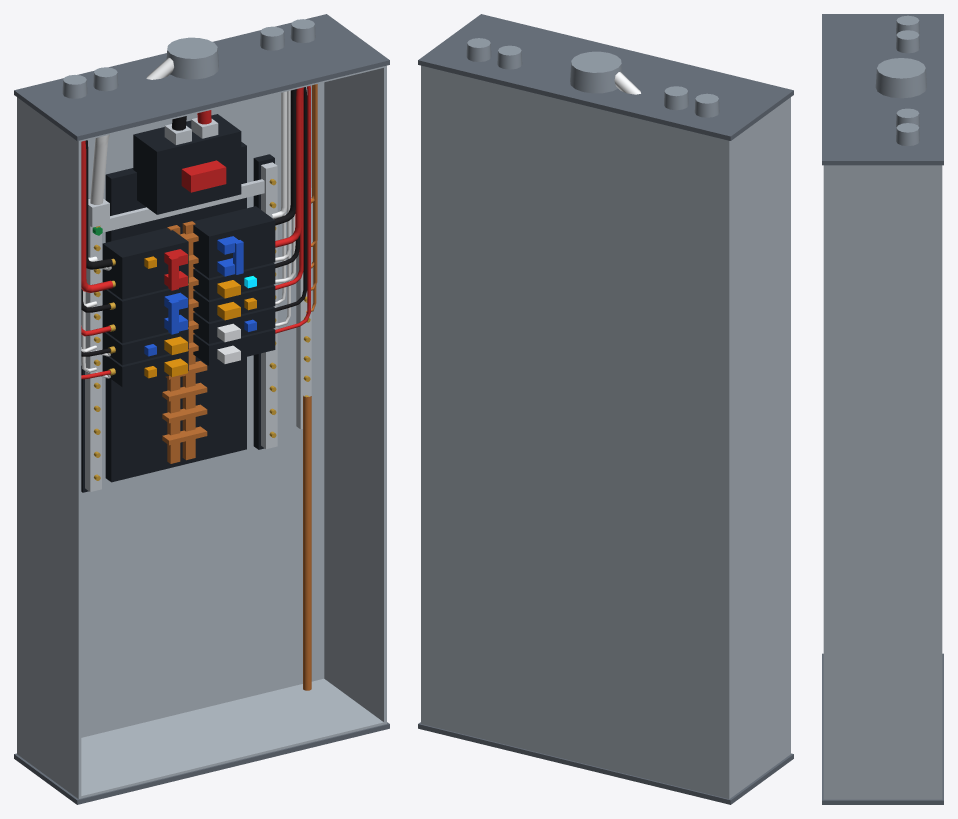
3 views of the same model, side by side, from view 1: azimuth 30°, elevation 25°; view 2: azimuth 150°, elevation 25°; view 3: azimuth 270°, elevation 25° (orthographic). The views are drawn at different scales.
Visible parts, largest first — view 1: panel-interior-demo_res_200a; view 2: panel-interior-demo_res_200a; view 3: panel-interior-demo_res_200a.
Part boxes in pixels (<box>): panel-interior-demo_res_200a: <box>14,14,389,804</box>; panel-interior-demo_res_200a: <box>418,14,793,804</box>; panel-interior-demo_res_200a: <box>822,14,943,804</box>.
Size of the model in its own units: 0.426 by 0.901 by 0.149.
